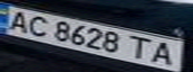2: (84, 25, 106, 52)
6: (66, 22, 87, 47)
8: (48, 18, 75, 44), (103, 28, 127, 55)
A: (145, 39, 184, 68), (0, 8, 33, 34)
C: (21, 12, 54, 37)
T: (127, 34, 157, 61)
